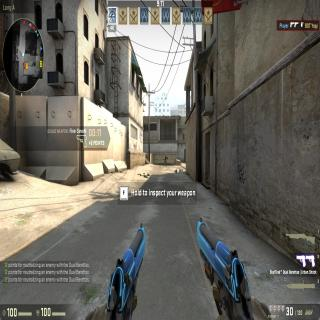T-Body: (164, 154, 167, 166)
